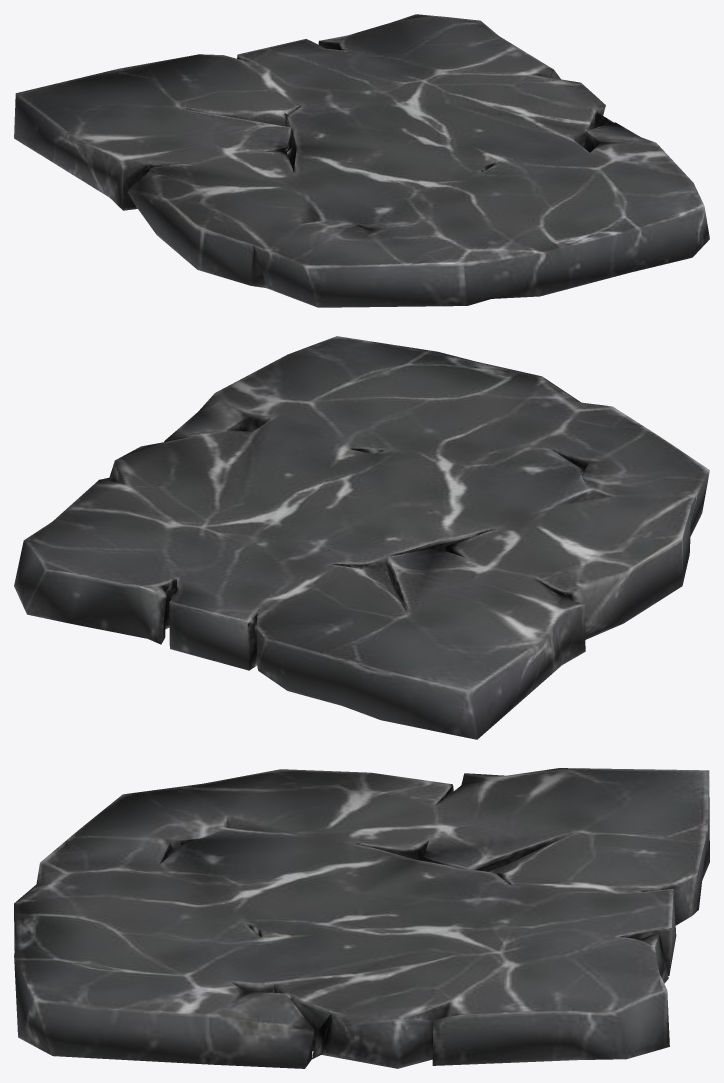
File: stone-slab.glb
The picture shows the model from 3 angles, top to bottom: view 1: azimuth 30°, elevation 25°; view 2: azimuth 150°, elevation 25°; view 3: azimuth 270°, elevation 25°; orthographic projection. The views are drawn at different scales.
Size of the model in its own units: 1.72 by 0.159 by 2.01.
1 material, 1 textured.
